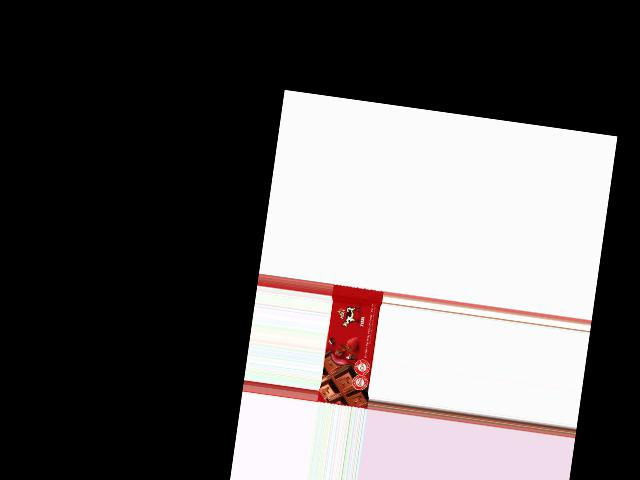chocolate: (318, 283, 384, 407)
